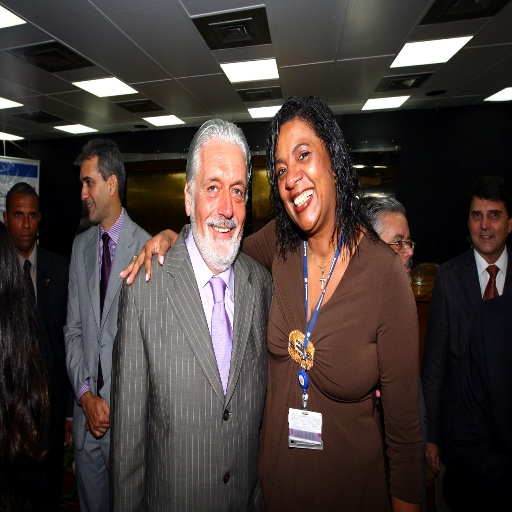hand: (128, 229, 170, 284), (82, 394, 112, 440), (424, 440, 440, 475), (62, 420, 73, 446)
